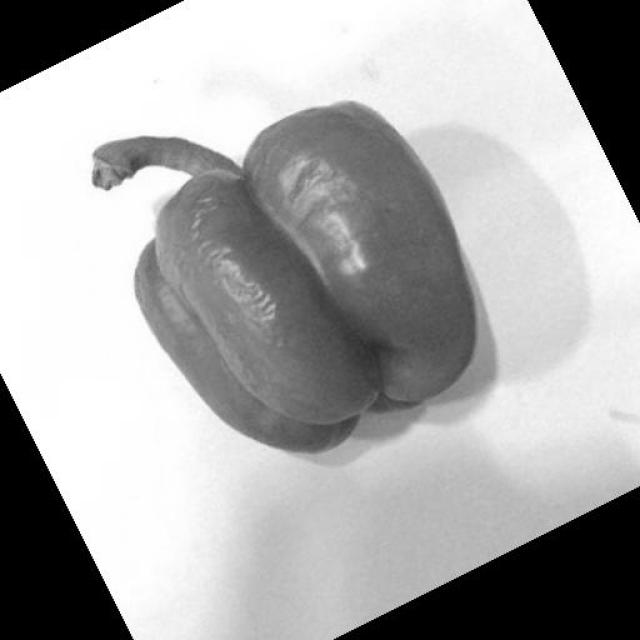Fresh_Capsicum: (98, 118, 469, 444)
